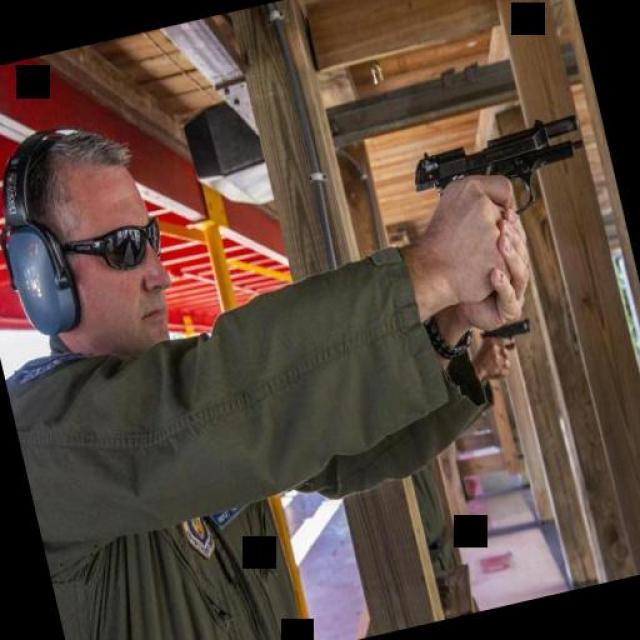gun: (398, 105, 594, 239)
